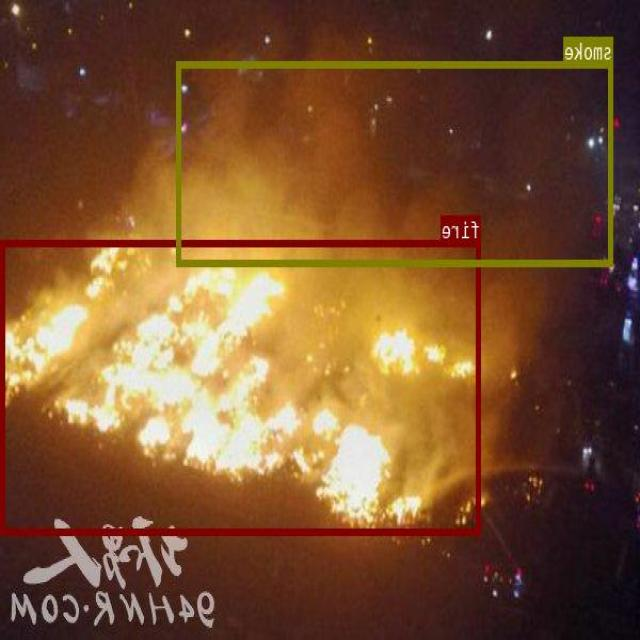fire: (2, 239, 482, 533)
smoke: (177, 60, 614, 265)
